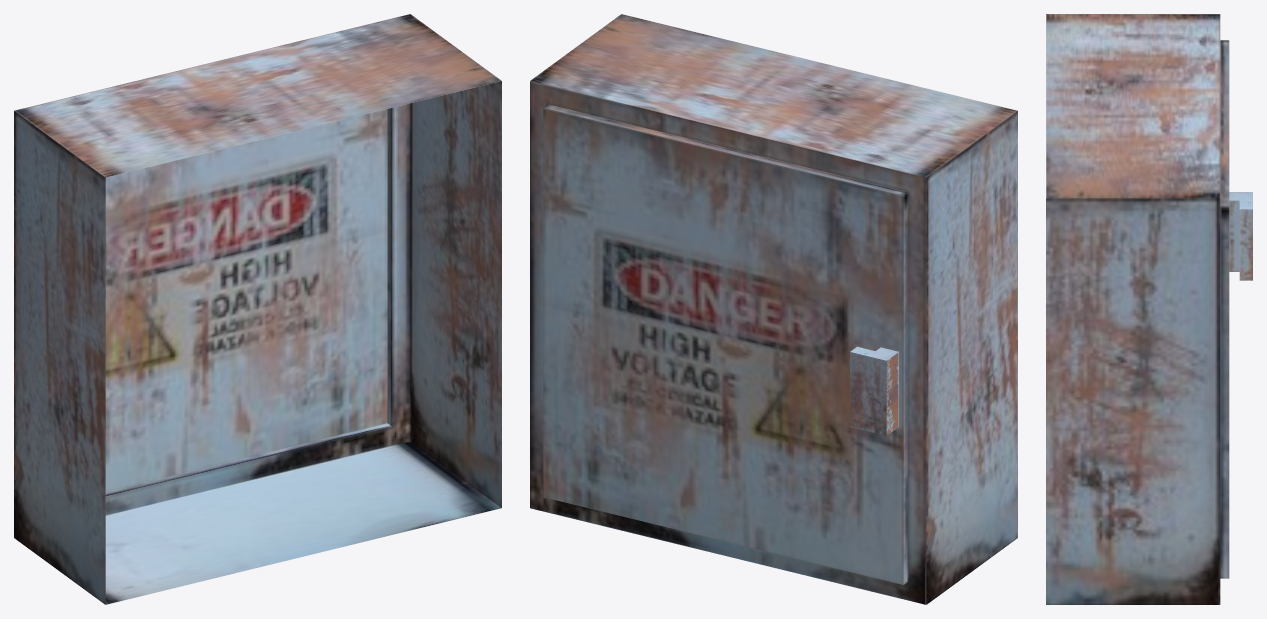
The model's file is sewer-box.glb.
3 views of the same model, side by side, from view 1: azimuth 30°, elevation 25°; view 2: azimuth 150°, elevation 25°; view 3: azimuth 270°, elevation 25° (orthographic). The views are drawn at different scales.
Visible parts, largest first — view 1: ElectricBxo_1; view 2: ElectricBxo_1; view 3: ElectricBxo_1.
Part boxes in pixels (x1,y1,x2,y2): ElectricBxo_1: (14,14,501,604); ElectricBxo_1: (530,14,1017,604); ElectricBxo_1: (1046,14,1252,604).
Size of the model in its own units: 0.6548 by 0.6744 by 0.3108.
1 material, 1 textured.
